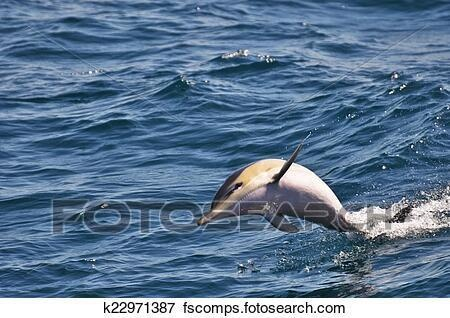fish: (192, 130, 393, 230)
